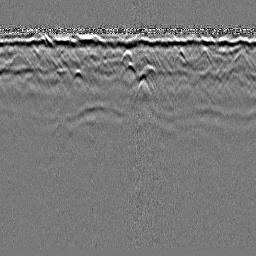cavity: (120, 49, 134, 63)
